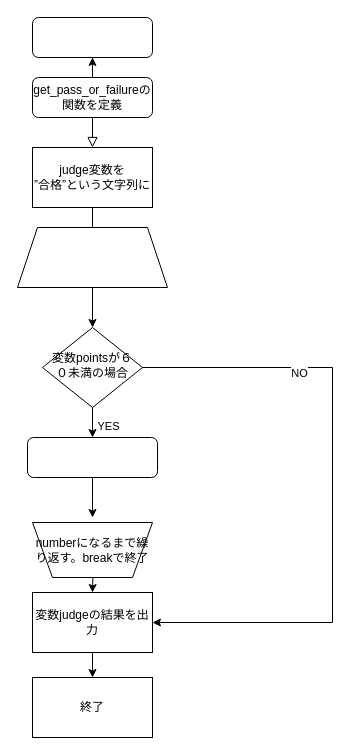
Image size: 358x755. Some labels were removed from this diagram. The box of each missing label's shape, as (x1, y1, x2, y2) in pixels:
処理開始: (32, 16, 152, 58)
変数iを０とし、 iは変数number未満の間は1を足す。: (16, 226, 168, 288)
変数judgeを"不合格"という文字列: (26, 436, 158, 478)
